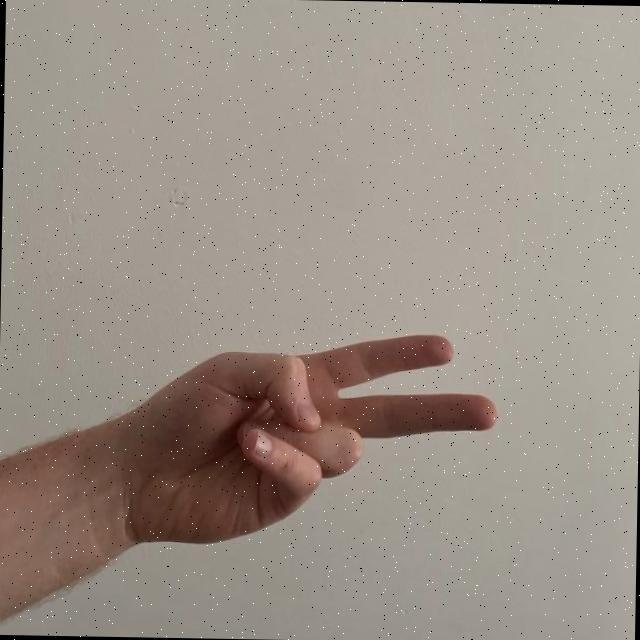scissors: (113, 324, 510, 560)
